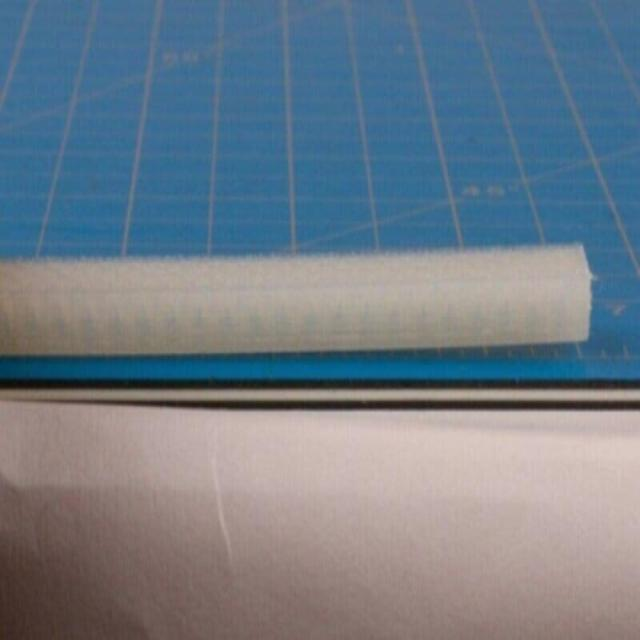warping: (300, 318, 596, 374)
